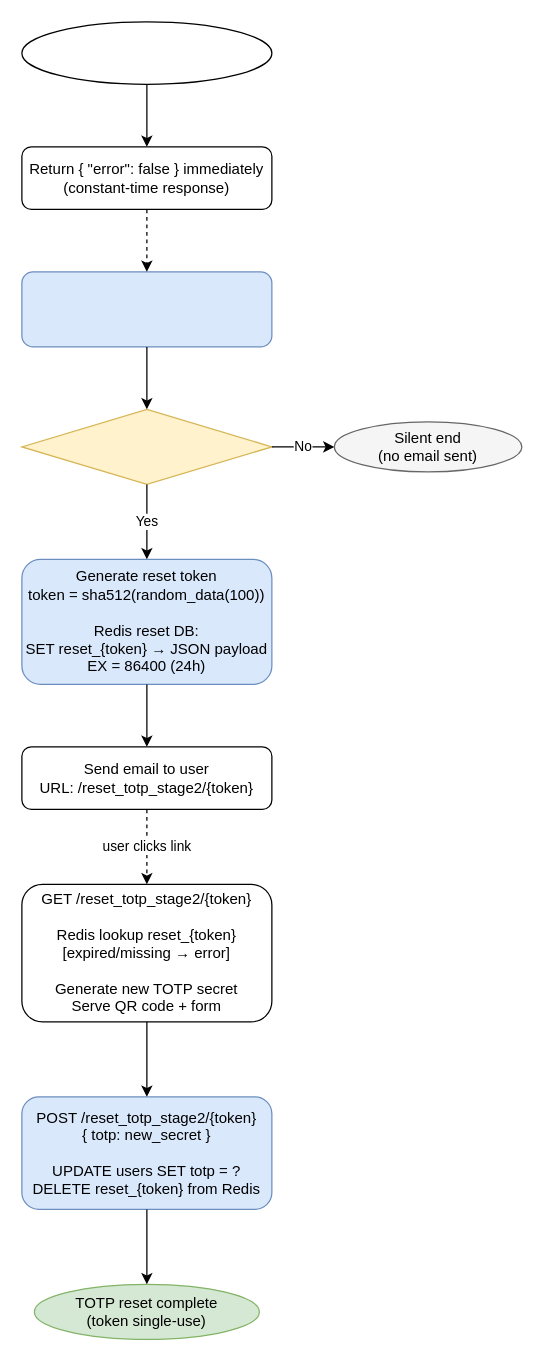
Image size: 544x1361. Some labels were removed from this diagram. The centre of each missing label's shape, as x and y in pixels:
"Background thread Scan all users PBKDF2(email).verify(users.email)" belongs at (146,309).
"Email match found?" belongs at (146,446).
"POST /do/reset_totp { email }" belongs at (146,52).
